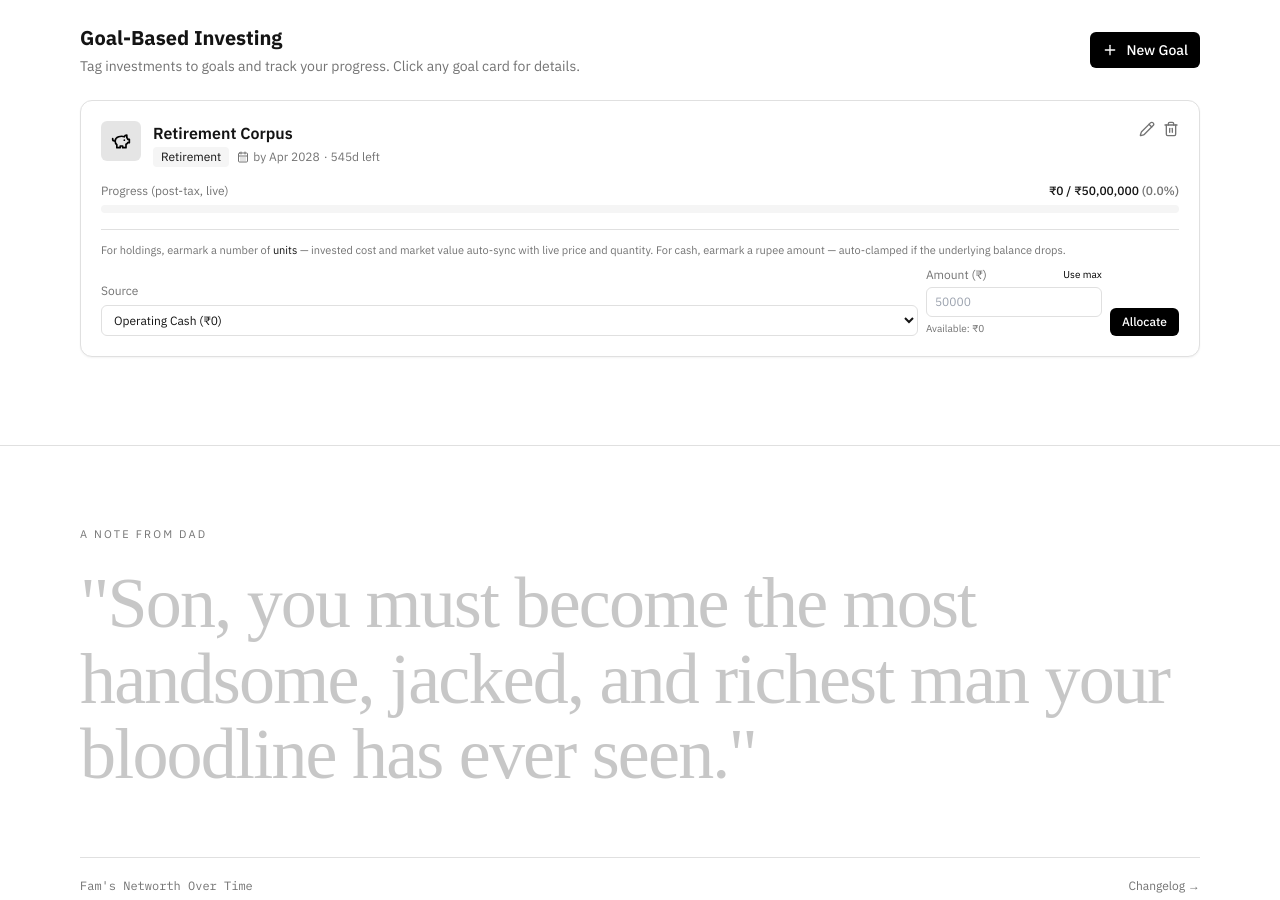
Test: GoalTrack — goal detail timeline › does not read 0% just because the goal is more than a year from its target
Click the heading "Retirement Corpus" at (223, 133), box [153,123,293,143]
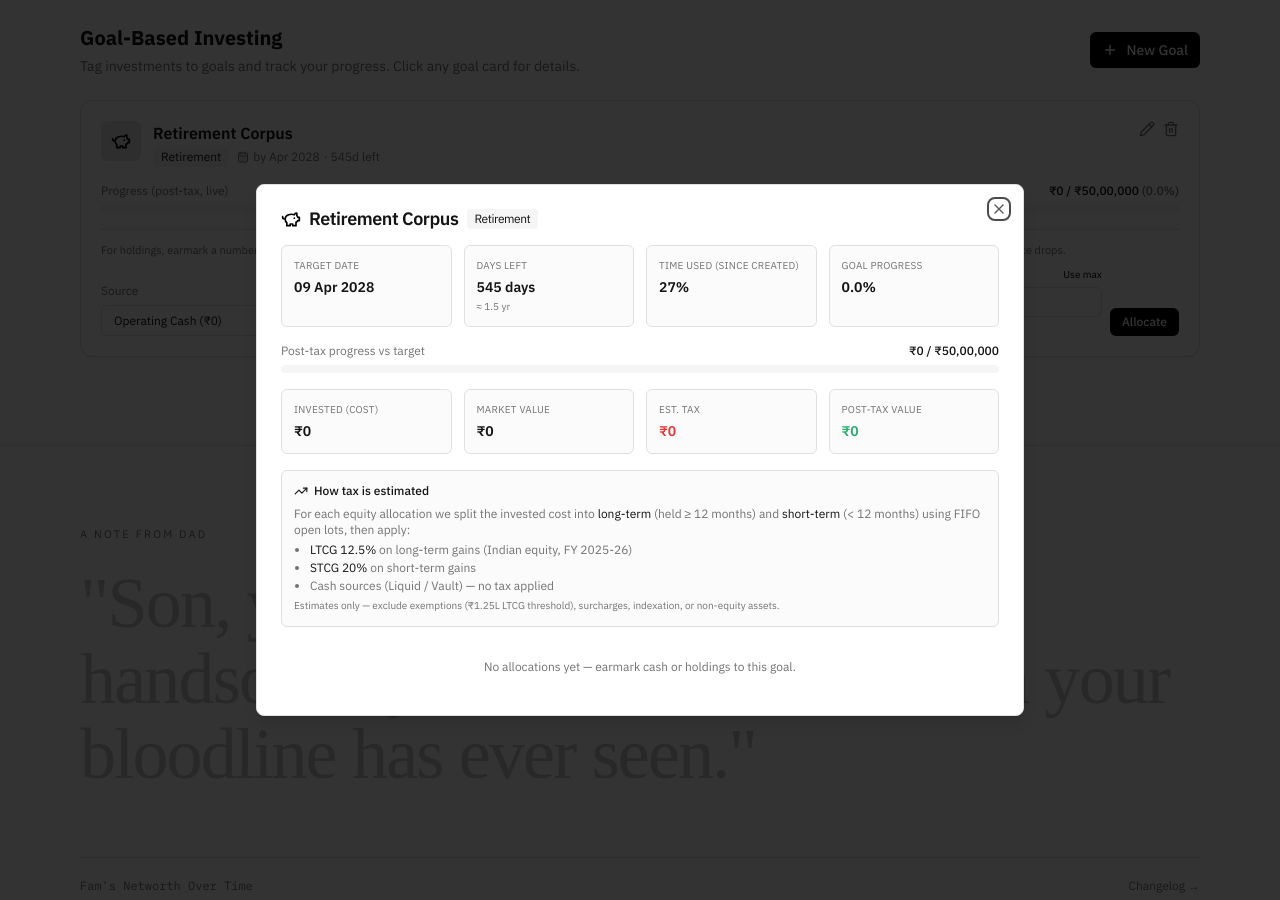
Check: the text "Time Used (since created)" is shown, box [659,258,804,273]
Check: the text "27%" is shown, box [659,278,689,296]
